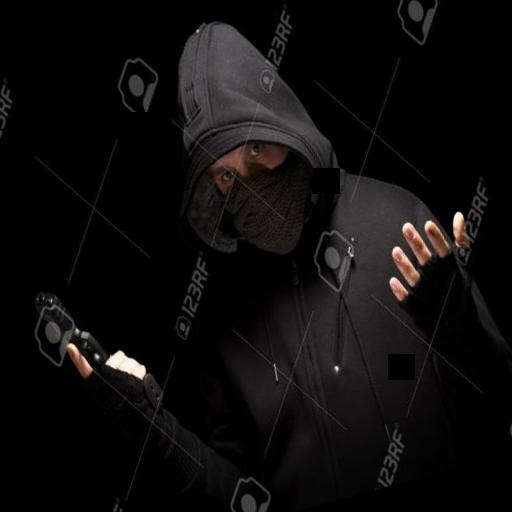Handgun: (27, 264, 176, 438)
